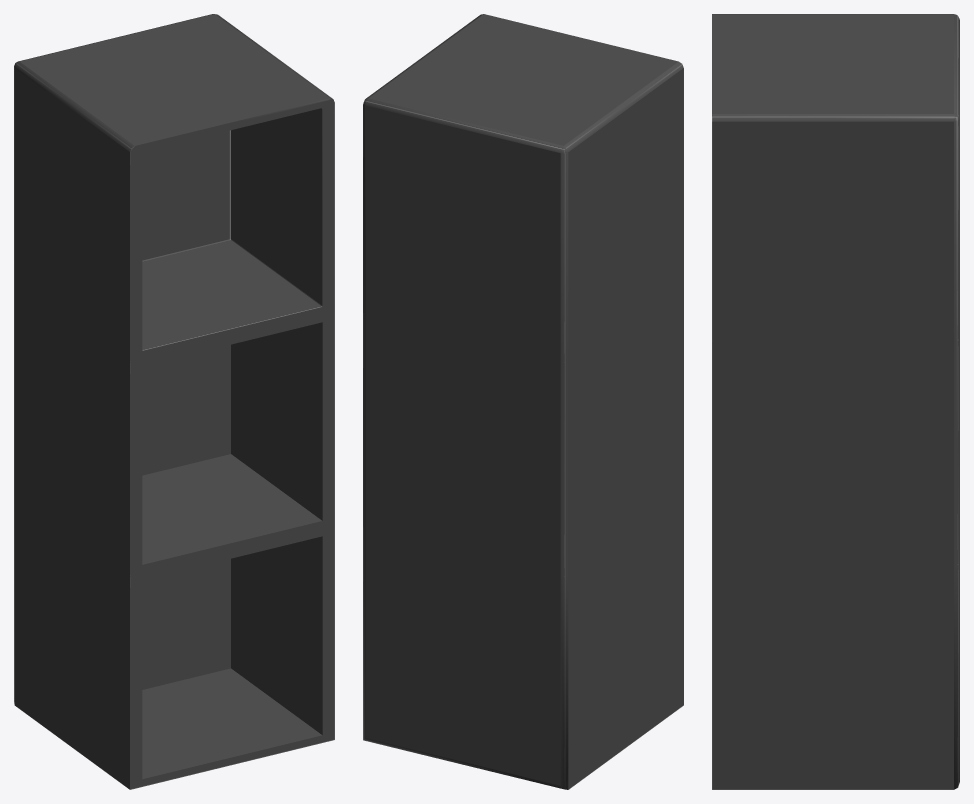
Rendered from Y3BoxShelf.fbx.
The picture shows the model from 3 angles, left to right: view 1: azimuth 30°, elevation 25°; view 2: azimuth 150°, elevation 25°; view 3: azimuth 270°, elevation 25°; orthographic projection. The views are drawn at different scales.
Visible parts, largest first — view 1: tana3; view 2: tana3; view 3: tana3.
Part boxes in pixels (<box>): tana3: <box>14,14,334,789</box>; tana3: <box>363,14,683,789</box>; tana3: <box>712,14,959,789</box>.
Bounding box in the file's own units: 1 × 3 × 1.
1 material, 1 textured.
